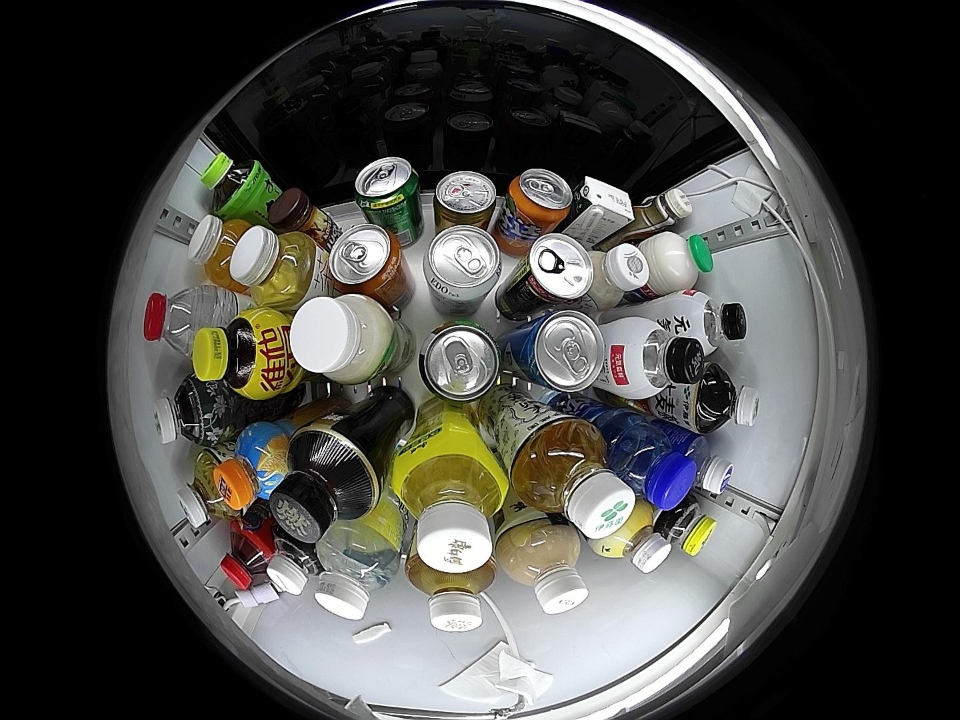asamu: (596, 504, 671, 573)
baicha: (511, 419, 634, 538), (176, 452, 242, 528)
baokuangli: (677, 433, 734, 497)
binghongcha: (219, 524, 275, 590)
bingtangxueli: (392, 437, 509, 574)
chacui: (658, 496, 717, 557)
chapai2: (229, 225, 316, 307)
damaicha: (693, 366, 761, 432)
fenda: (326, 223, 404, 295), (508, 168, 574, 225)
guolicheng: (214, 422, 290, 510)
hongniu2: (434, 170, 498, 227)
jindian: (576, 176, 635, 231)
kafei: (632, 189, 692, 237)
liziyuan: (642, 231, 713, 297)
lujikafei: (269, 187, 332, 241)
maidong: (612, 426, 697, 510)
moliqingcha: (153, 376, 222, 446)
nongfushanquan: (144, 285, 216, 356)
qingdaowangzi-2: (517, 309, 606, 394)
qinningshui: (315, 527, 399, 622)
quchenshixiangcao: (419, 320, 501, 404)
rancha-1: (268, 425, 380, 543)
rancha-2: (406, 549, 498, 633)
rusuanjunqishui: (423, 225, 503, 308)
weic: (188, 214, 253, 289)
weitaningmeng-bottle: (191, 308, 288, 401)
weiweidounai: (589, 242, 650, 304)
wuhounaicha: (498, 521, 588, 616)
wulongcha: (267, 533, 323, 597)
xuebi2: (354, 157, 421, 215)
yezhi: (518, 232, 595, 307)
yitengyuan: (201, 150, 263, 215)
yousuanru: (291, 294, 396, 386)
yuanqishui: (609, 317, 704, 403), (672, 292, 748, 359)
